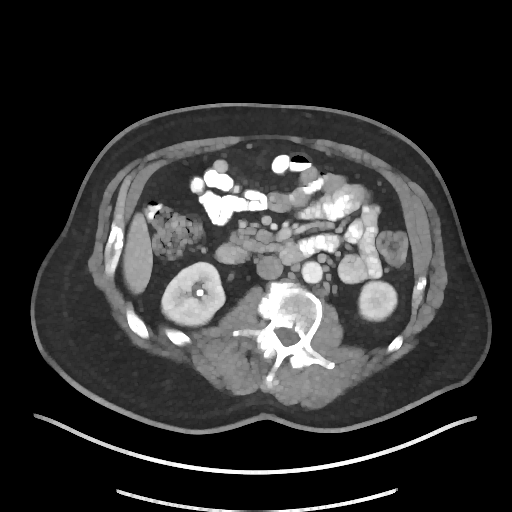Lesion: (194, 283, 206, 301)
